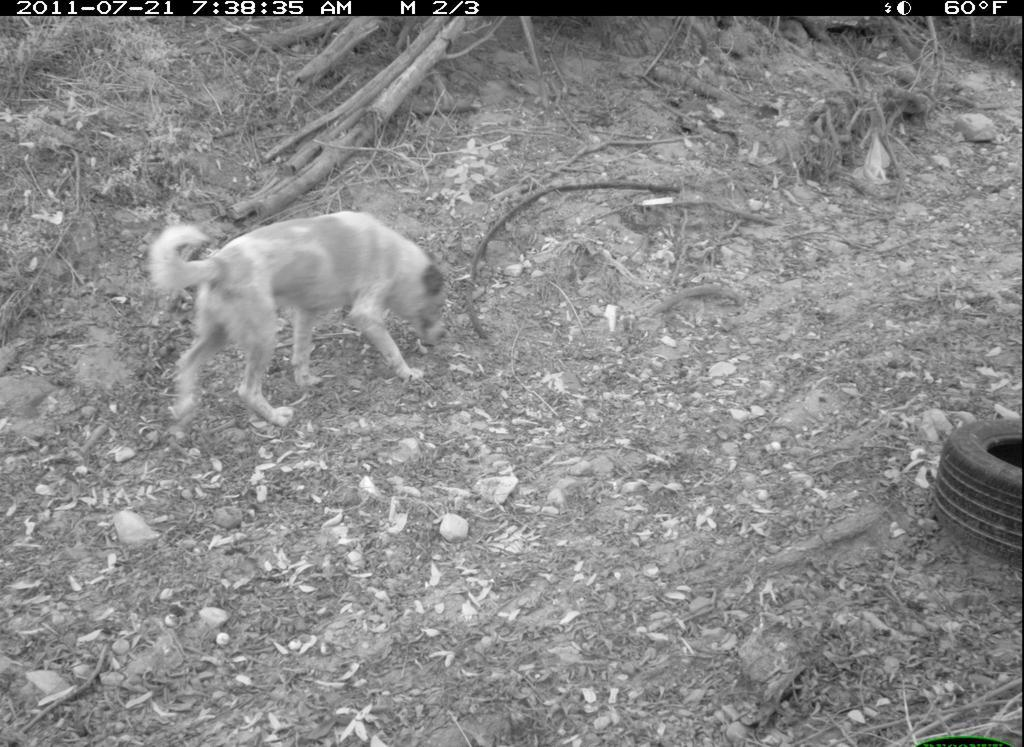dog: (149, 209, 452, 442)
